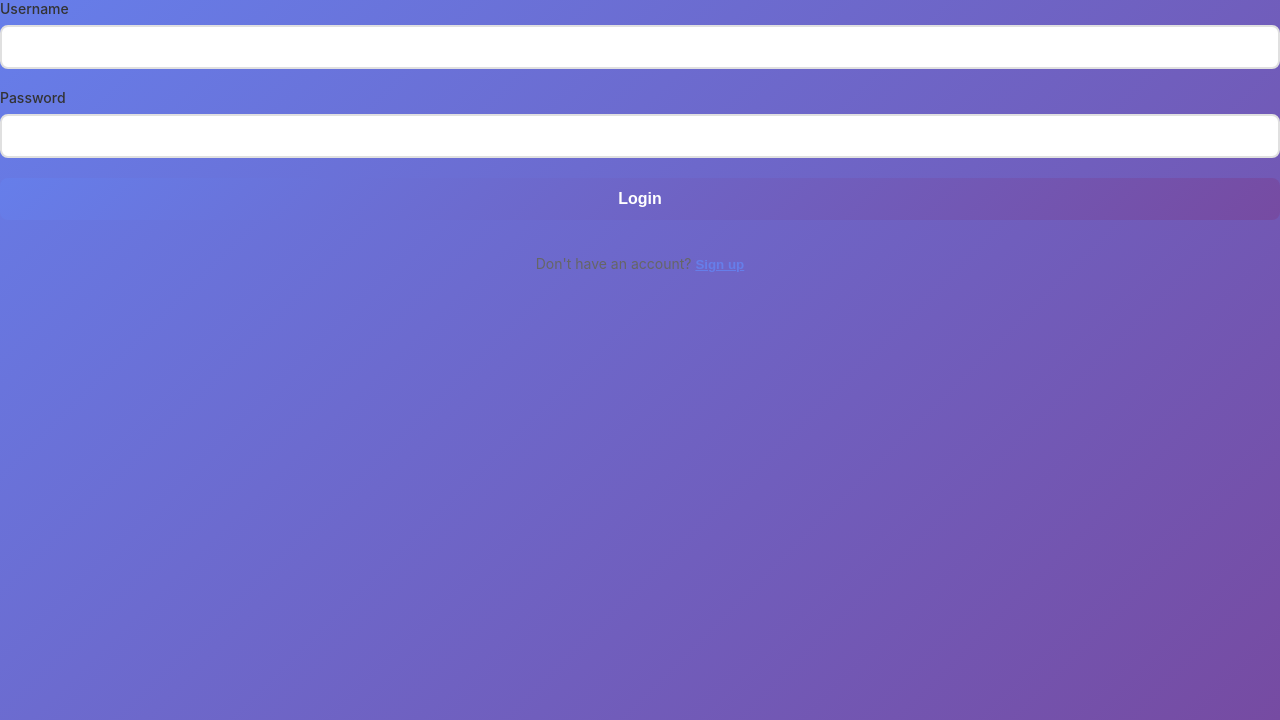
Test: Login Component › shows error message on failed login
The width and height of the screenshot is (1280, 720).
Type "wronguser" into the field labelled "Username" at (640, 47), box [0,25,1279,69]
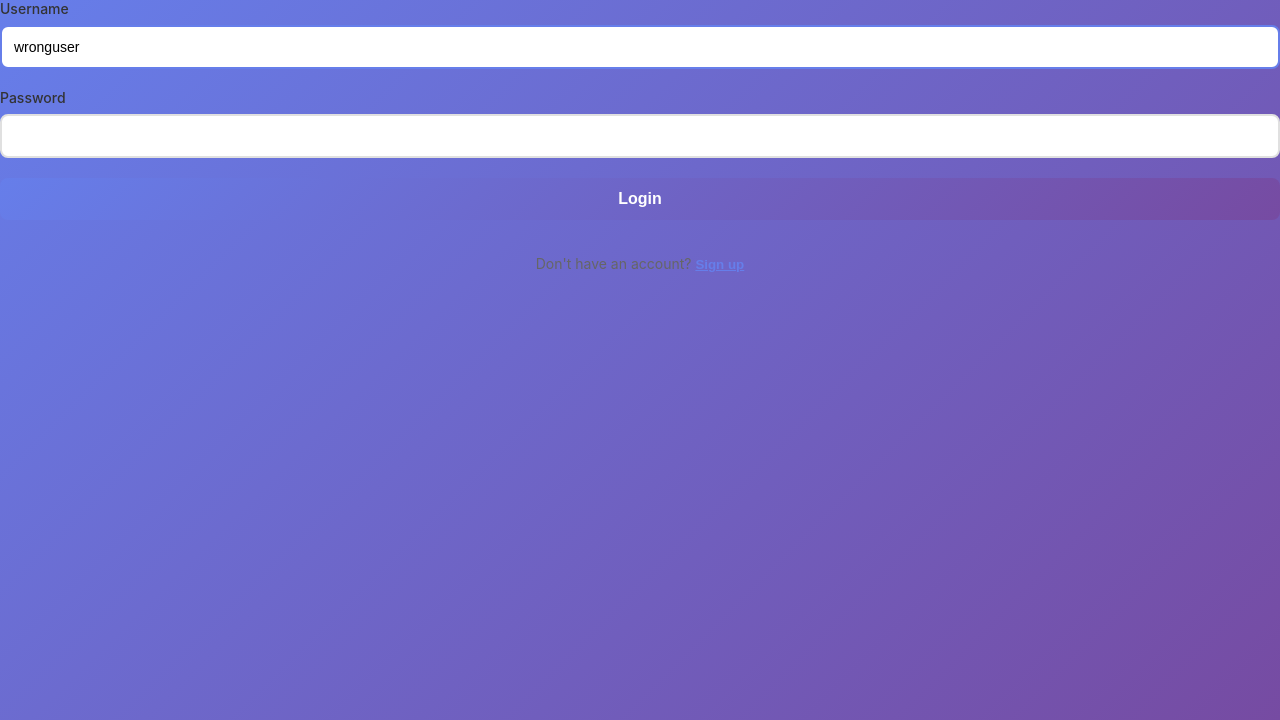
# User types password
Type "wrongpass" into the password field labelled "Password" at (640, 136), box [0,114,1279,158]
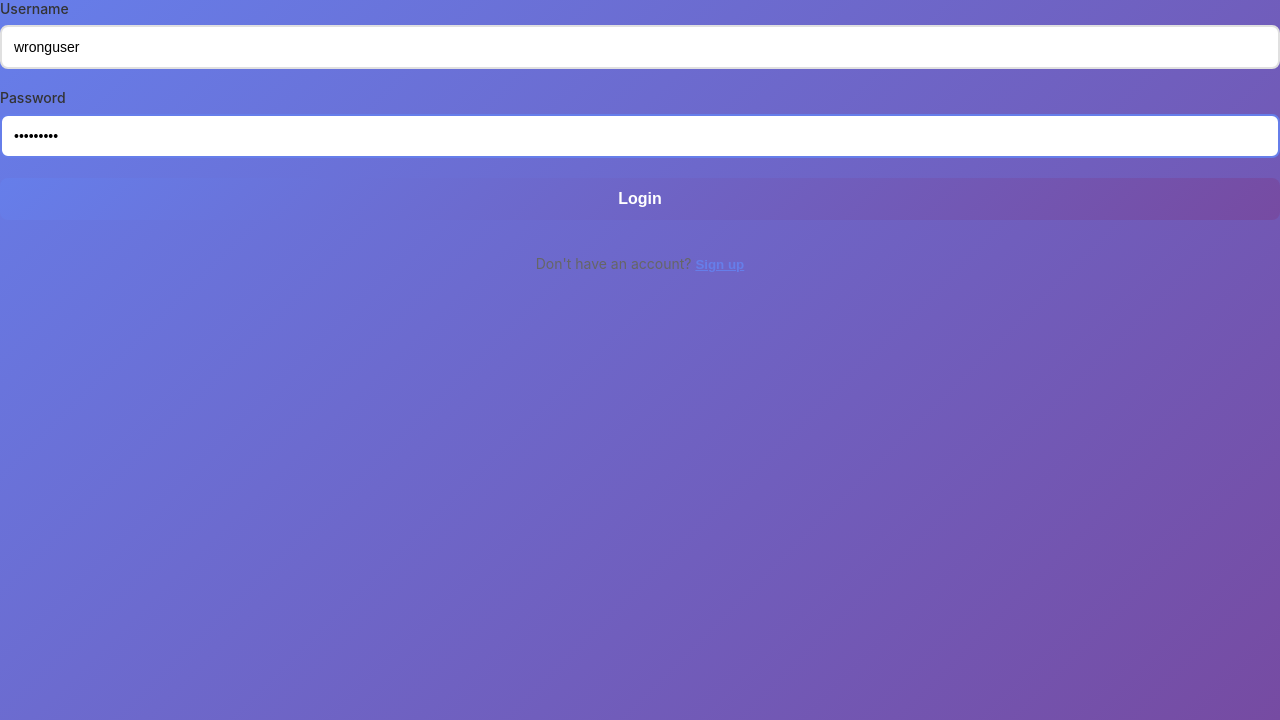
Click the button "Login" at (640, 199), box [0,178,1279,220]
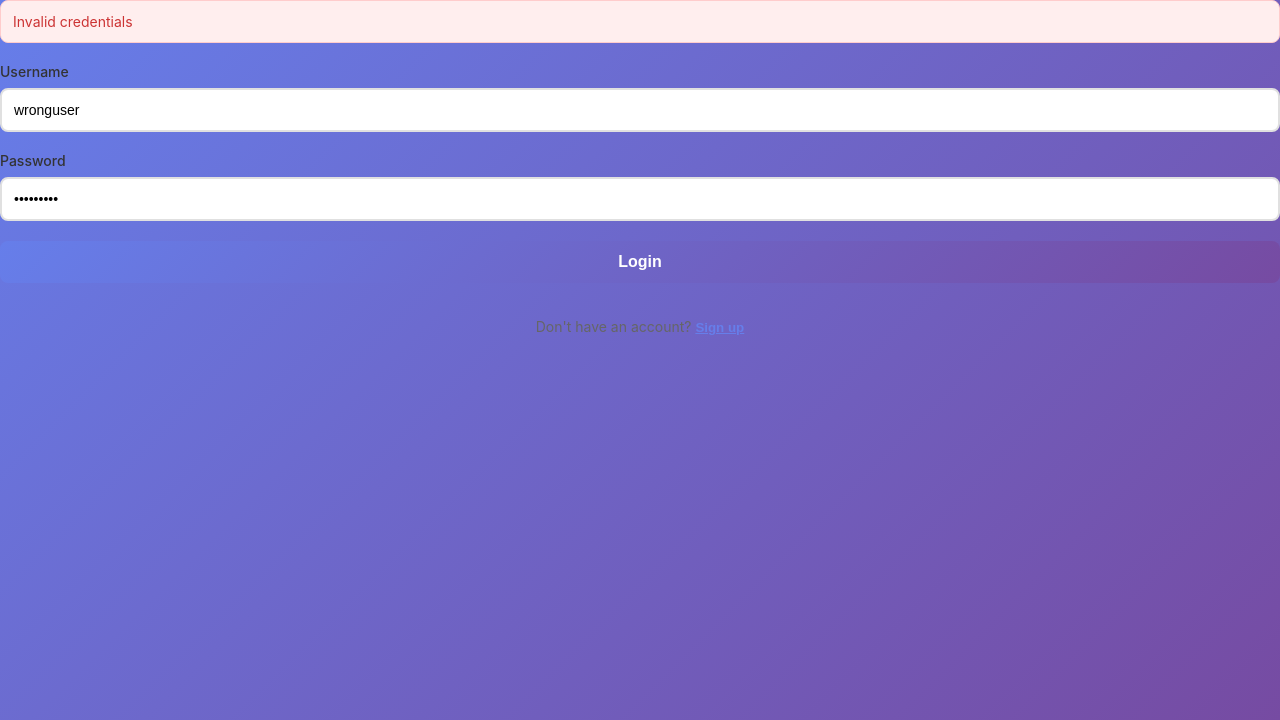
Expected: the text "Invalid credentials" is shown, [0,0,1279,43]
